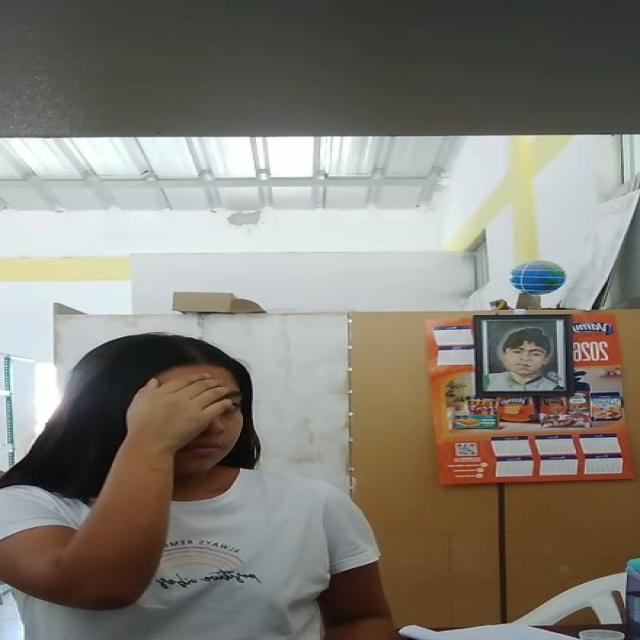7_mano_rostro: (128, 372, 230, 470)
